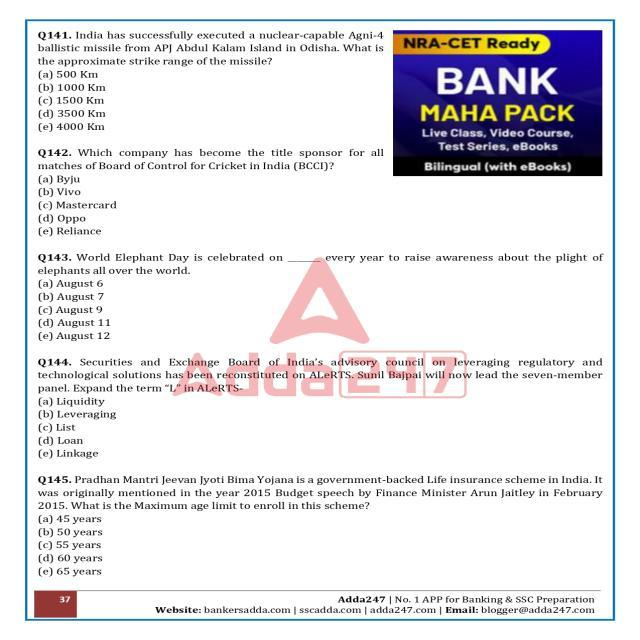Answer_Block: (26, 172, 606, 244), (29, 276, 609, 346), (29, 513, 609, 577), (29, 398, 609, 460), (34, 70, 614, 130)
Question_Answer_Block: (29, 465, 609, 577), (26, 134, 606, 244), (29, 352, 609, 461), (34, 26, 614, 130), (29, 250, 609, 347)
Question_Block: (29, 465, 609, 513), (29, 352, 609, 394), (34, 26, 614, 68), (26, 134, 606, 173), (29, 250, 609, 275)
Question_Paper_Area: (32, 25, 612, 592)
